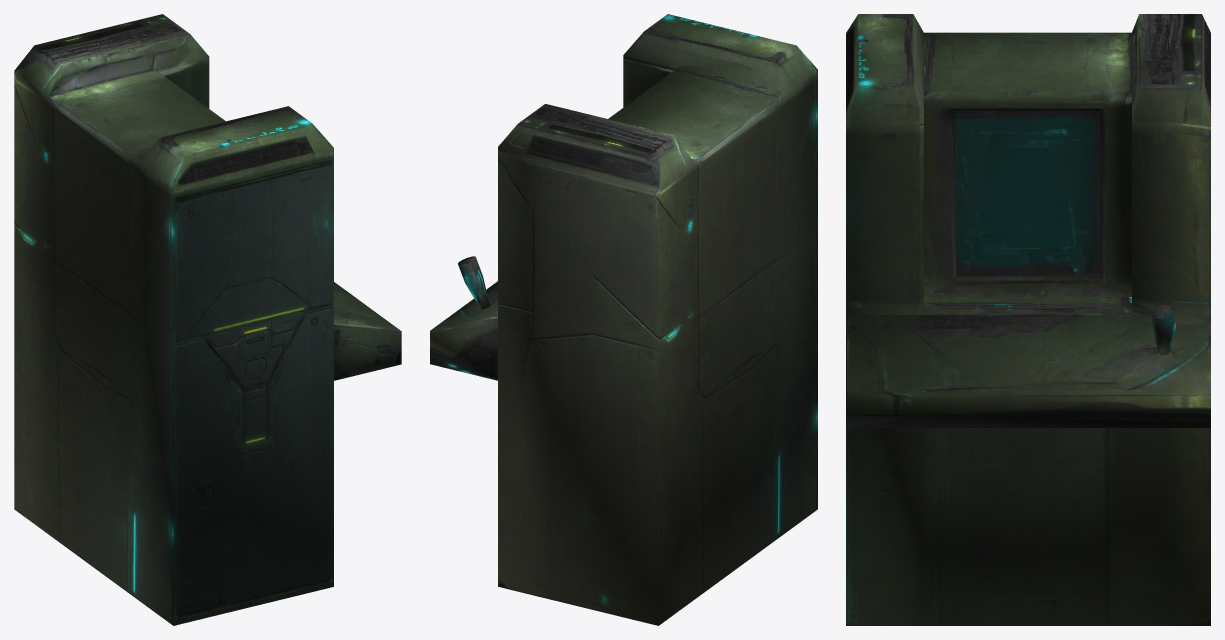
File: _0609231341_texture.fbx
The picture shows the model from 3 angles, left to right: view 1: azimuth 30°, elevation 25°; view 2: azimuth 150°, elevation 25°; view 3: azimuth 270°, elevation 25°; orthographic projection. The views are drawn at different scales.
Parts seen in each view (by area): view 1: pCube23; view 2: pCube23; view 3: pCube23.
Boxes of the visible parts, x1,y1,x2,y2 form: pCube23: (14, 14, 401, 625); pCube23: (430, 14, 817, 625); pCube23: (846, 14, 1210, 625).
Size of the model in its own units: 103 by 200 by 125.
1 material, 1 textured.
